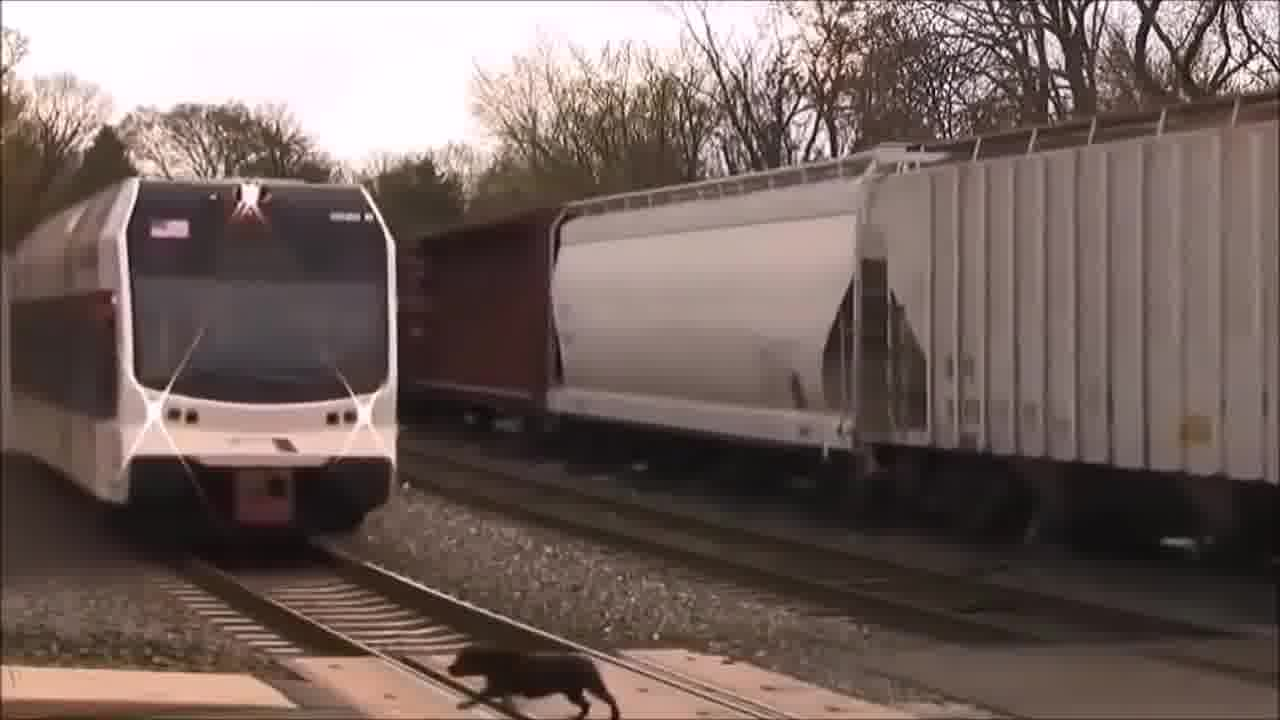crossing railway track: (197, 596, 830, 720)
